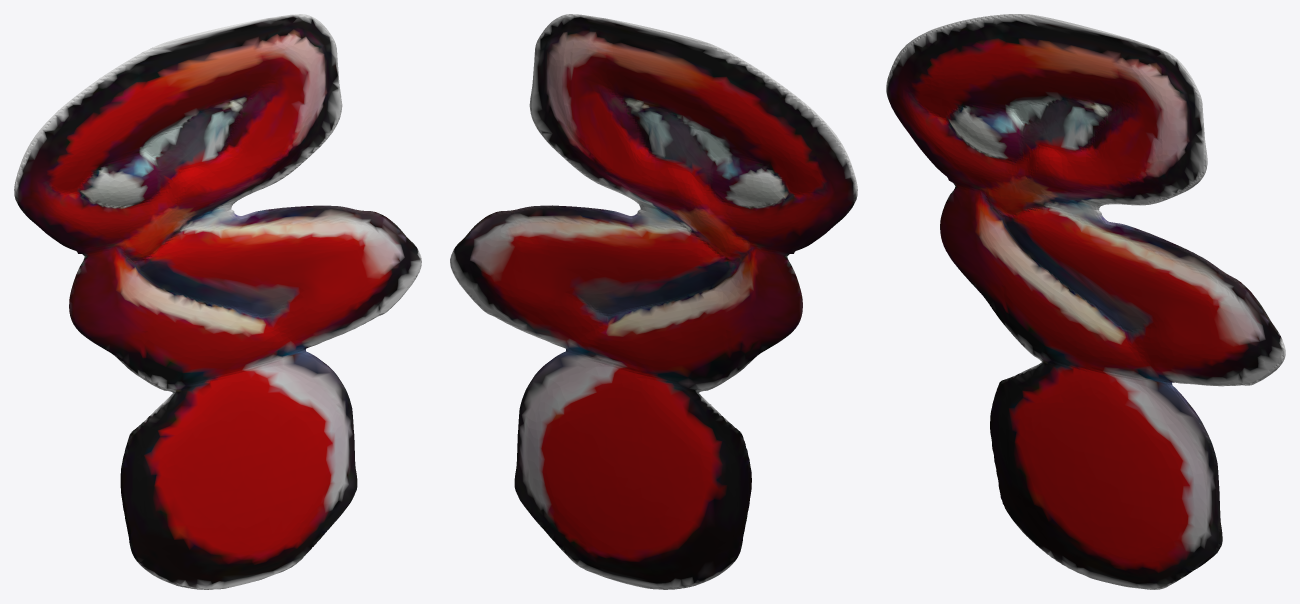
The model's file is amulet_darkred.glb.
The picture shows the model from 3 angles, left to right: view 1: azimuth 30°, elevation 25°; view 2: azimuth 150°, elevation 25°; view 3: azimuth 330°, elevation 25°; orthographic projection. The views are drawn at different scales.
Parts seen in each view (by area): view 1: geometry_0; view 2: geometry_0; view 3: geometry_0.
Boxes of the visible parts, box(x1,y1,x2,y2) form: geometry_0: box(14, 14, 421, 589); geometry_0: box(450, 14, 857, 589); geometry_0: box(886, 14, 1285, 589).
Size of the model in its own units: 0.5 by 0.6589 by 0.0357.
